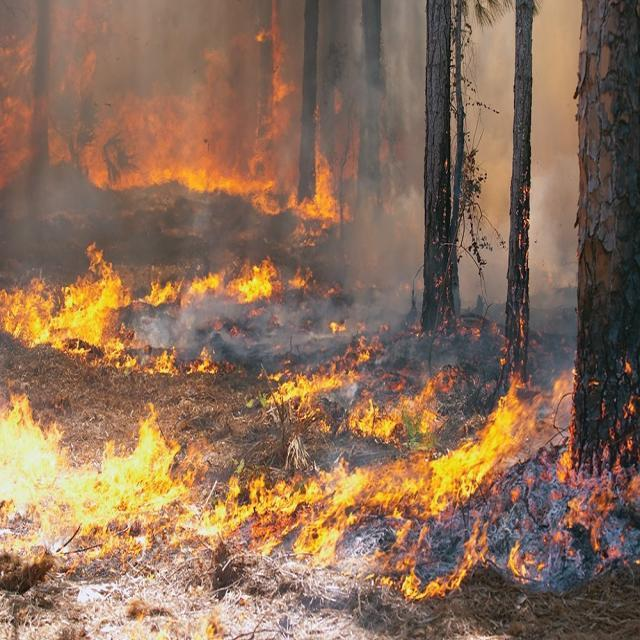Fire: (1, 376, 581, 601), (0, 246, 456, 449), (0, 68, 322, 200), (3, 271, 146, 364)
Smoke: (458, 5, 579, 302), (327, 6, 422, 314), (6, 2, 268, 78)
